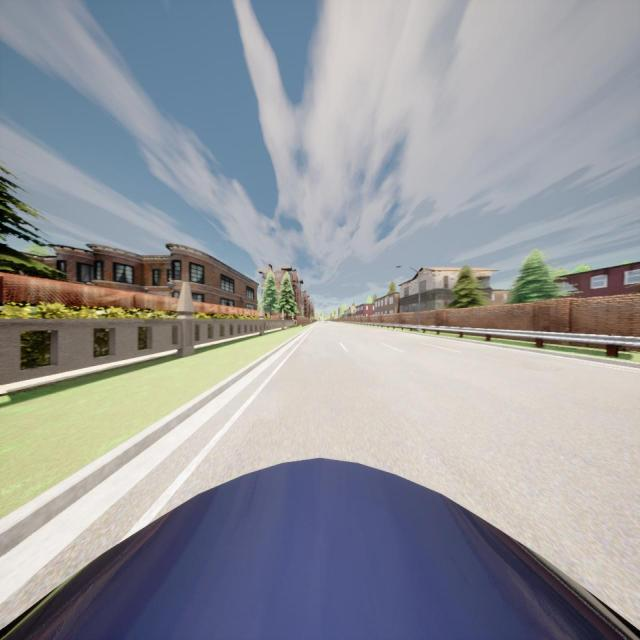Vehicle: (0, 458, 637, 638)
